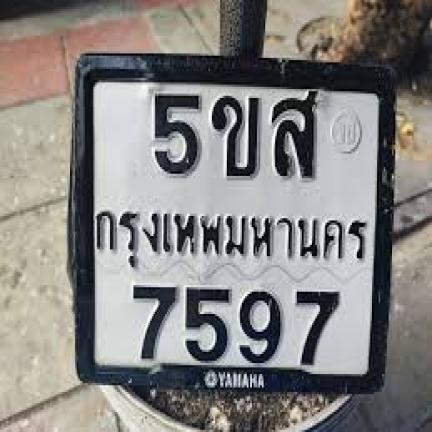5: (151, 86, 201, 176), (184, 281, 234, 362)
7: (290, 281, 341, 370), (132, 281, 180, 361)
9: (237, 284, 282, 366)
A02: (206, 89, 259, 180)
A40: (266, 90, 321, 182)
BKK: (88, 196, 373, 275)
